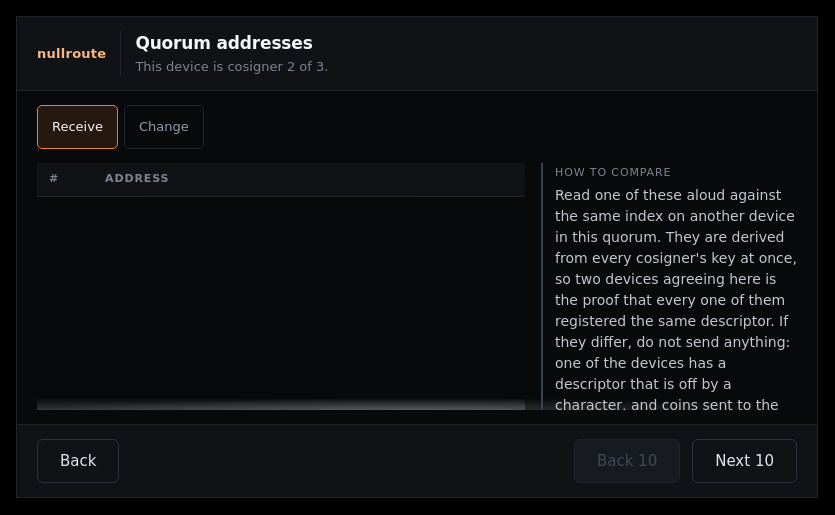
Test: QuorumAddressesScreen › shows-receive-and-change-separately-and-restarts-the-page
Click the button with test id "quorum-next": (745, 461) x1=692 y1=439 x2=797 y2=483
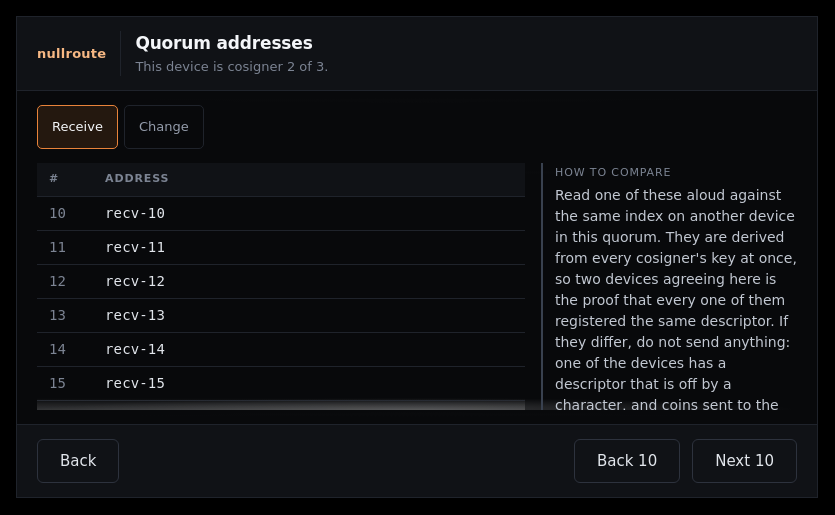
Click the button with test id "quorum-branch-change": (164, 127) x1=124 y1=105 x2=204 y2=149
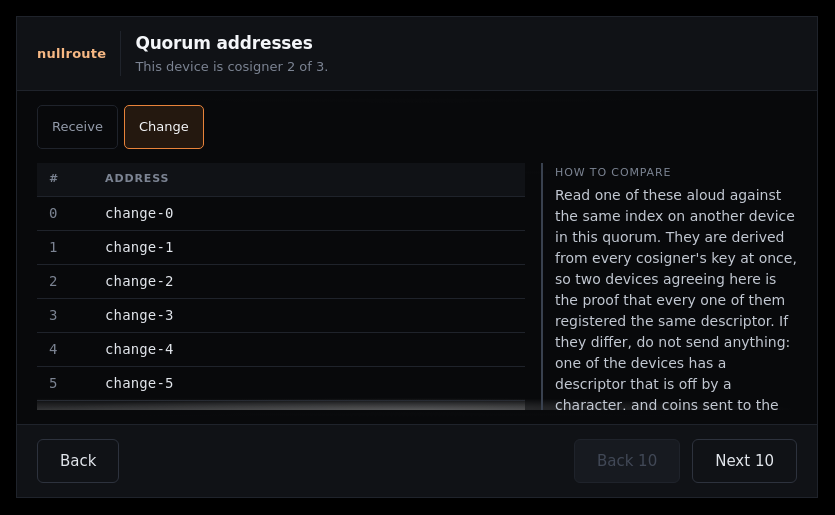
Expected: the table with test id "quorum-rows" shows "change-0", x1=105 y1=204 x2=174 y2=220
